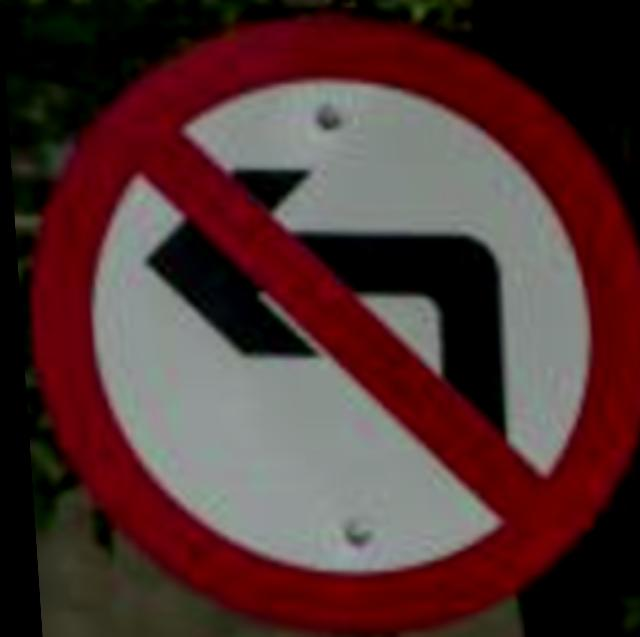not_turn_left: (22, 8, 640, 628)
